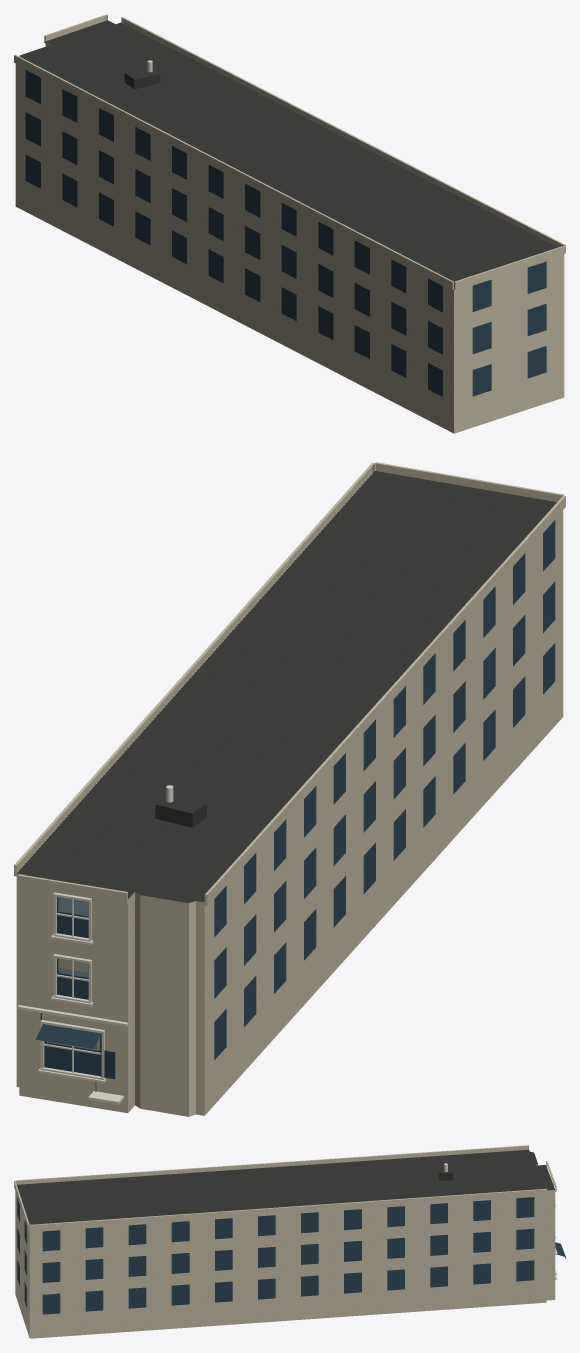
3 renders of one model, top to bottom at view 1: azimuth 30°, elevation 25°; view 2: azimuth 150°, elevation 25°; view 3: azimuth 270°, elevation 25°, orthographic. The views are drawn at different scales.
Parts seen in each view (by area): view 1: Footprint 0 / surface 2, Footprint 0 / surface 1, Inset glazing, Facade bay volumes; view 2: Footprint 0 / surface 2, Footprint 0 / surface 1, Inset glazing, Facade bay volumes, Cornices and window frames, Storefronts and doors; view 3: Footprint 0 / surface 2, Footprint 0 / surface 1, Inset glazing, Facade bay volumes.
Part boxes in pixels (x1,y1,x2,y2): Footprint 0 / surface 2: (15,42,564,433); Footprint 0 / surface 1: (19,20,557,281); Inset glazing: (25,70,546,396); Facade bay volumes: (14,14,565,289); Footprint 0 / surface 2: (16,510,563,1116); Footprint 0 / surface 1: (17,471,556,903); Inset glazing: (44,520,555,1079); Facade bay volumes: (14,462,565,905); Cornices and window frames: (17,892,127,1104); Storefronts and doors: (35,1013,100,1091); Footprint 0 / surface 2: (15,1164,555,1338); Footprint 0 / surface 1: (17,1149,555,1224); Inset glazing: (17,1197,534,1314); Facade bay volumes: (14,1145,556,1230).
Size of the model in its own units: 15.35 by 11.11 by 44.6.
